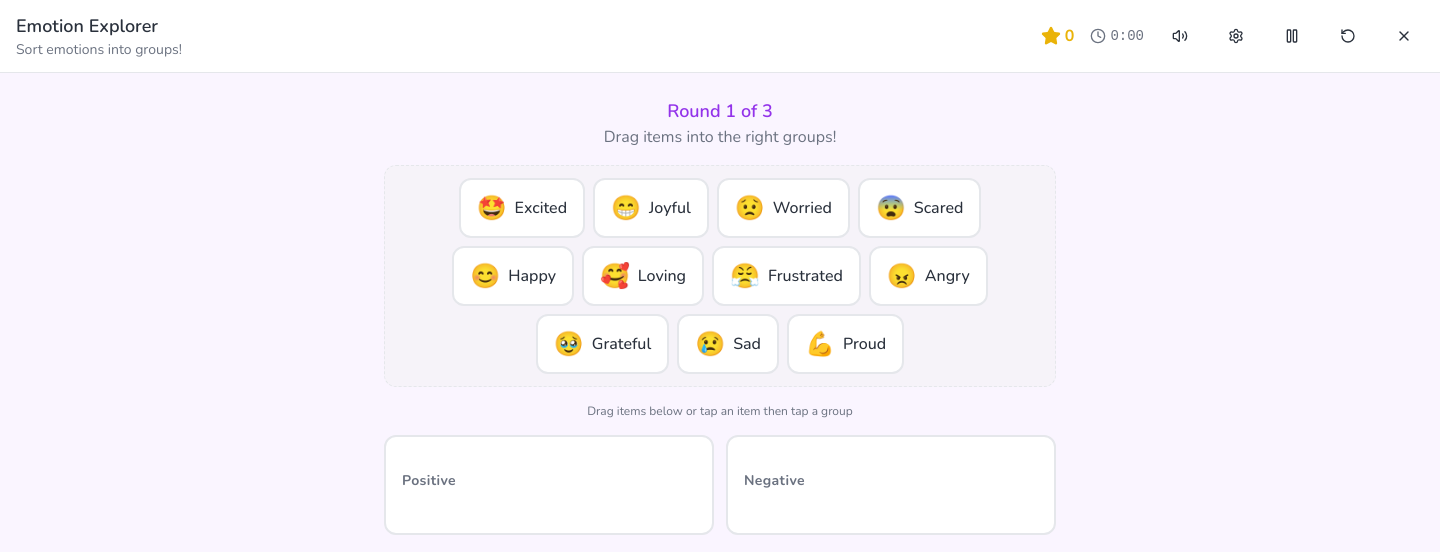
it: SkillMatchGame › pauses and resumes the game
Click the button named "Pause game". click: (1292, 36)
box: [1272,16,1312,56]
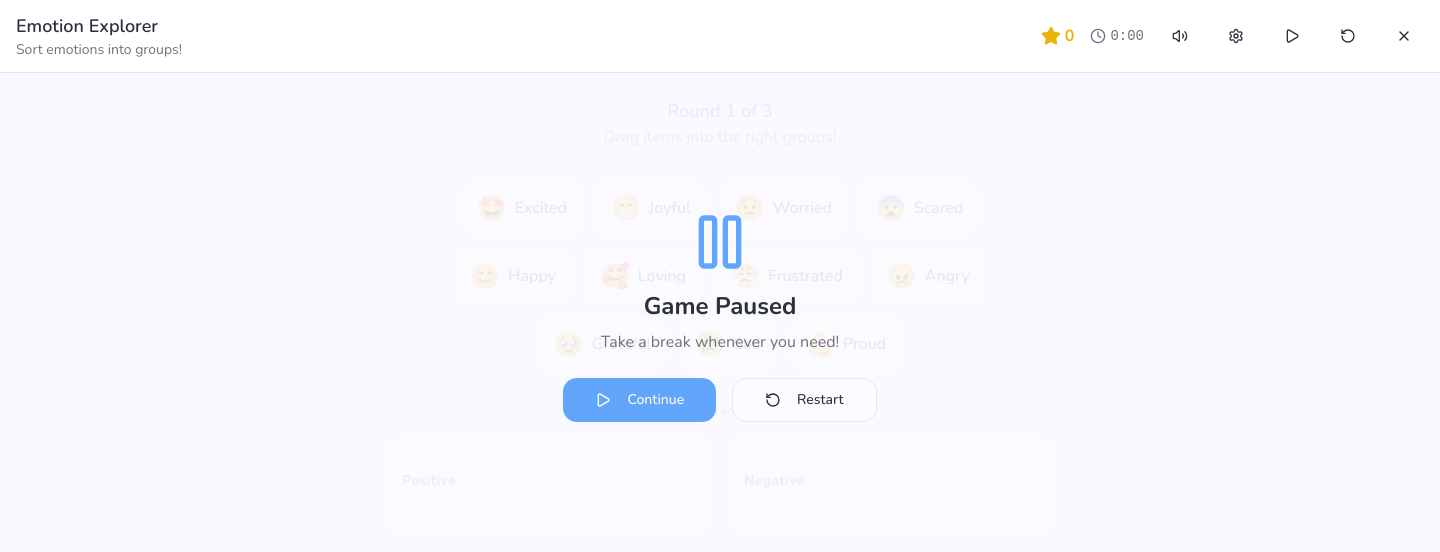
Check: the heading "Game Paused" is shown, box [644,290,796,322]
Click the button "Continue". click: (640, 400)
box: [564,378,716,422]
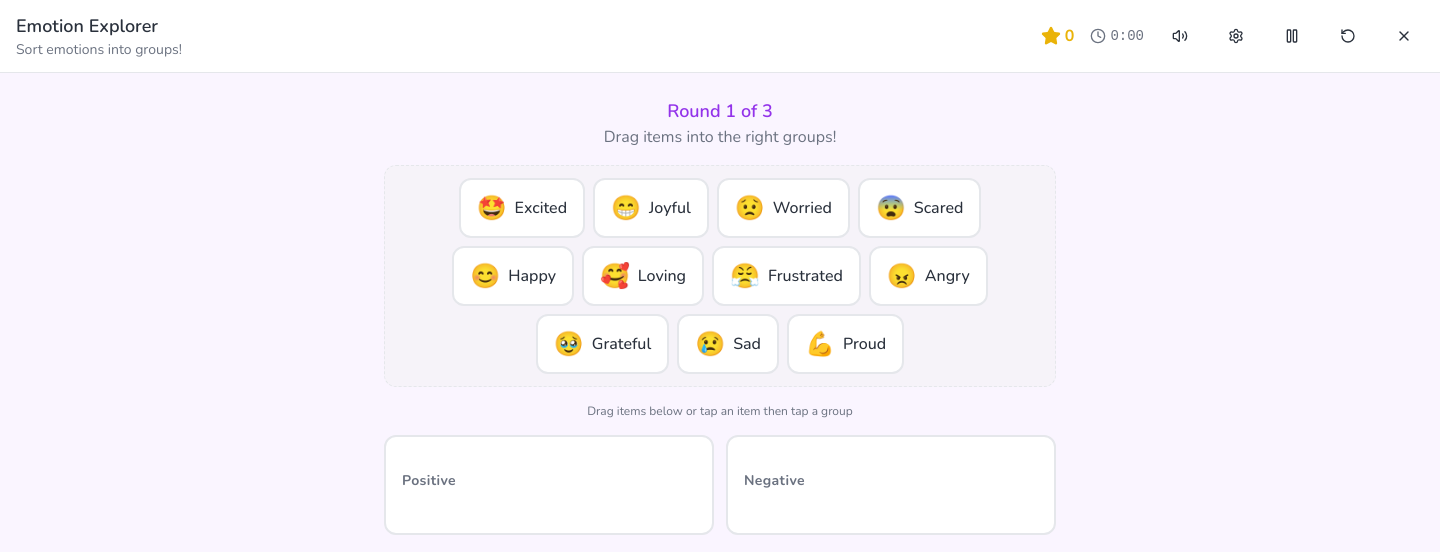
Check: the heading "Game Paused" is gone
